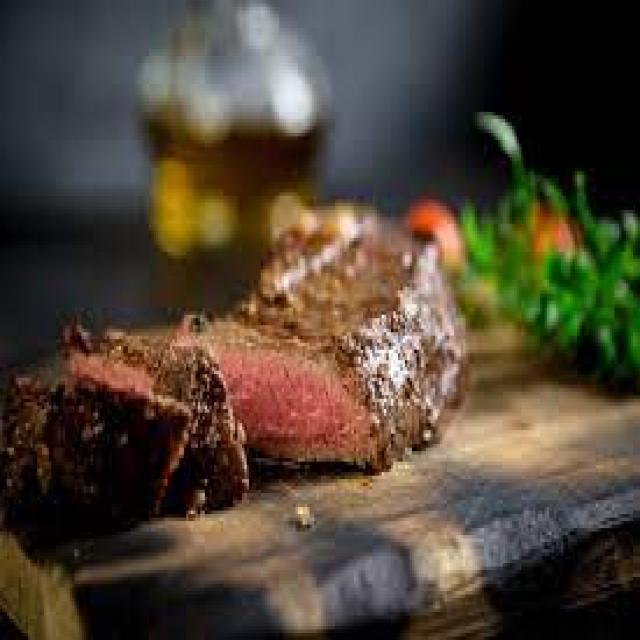Carne: (0, 192, 470, 542)
